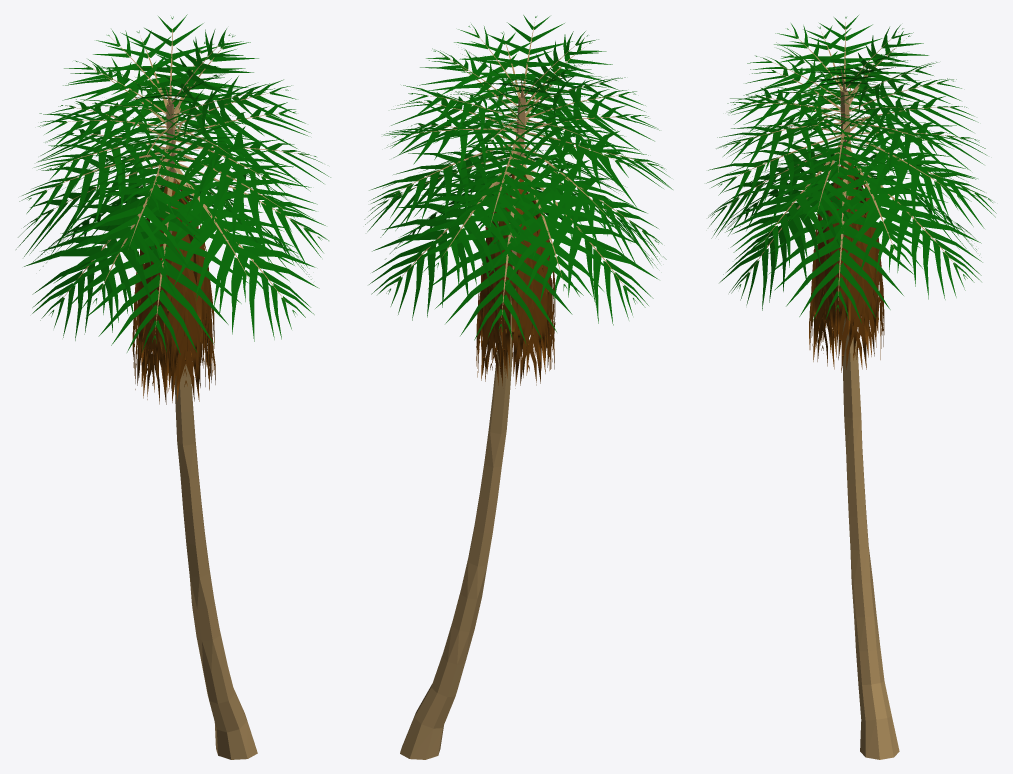
Rendered from Palm4.FBX.
3 renders of one model, left to right at view 1: azimuth 30°, elevation 25°; view 2: azimuth 150°, elevation 25°; view 3: azimuth 270°, elevation 25°, orthographic. The views are drawn at different scales.
Parts seen in each view (by area): view 1: Palm4_2, Palm4_1, Palm4_3; view 2: Palm4_2, Palm4_1, Palm4_3; view 3: Palm4_2, Palm4_1, Palm4_3.
Boxes of the visible parts, left/top/right/bottom form: Palm4_2: left=16, top=14, right=330, bottom=354; Palm4_1: left=166, top=104, right=257, bottom=759; Palm4_3: left=132, top=179, right=215, bottom=404; Palm4_2: left=364, top=15, right=672, bottom=343; Palm4_1: left=400, top=97, right=525, bottom=759; Palm4_3: left=476, top=174, right=555, bottom=388; Palm4_2: left=706, top=15, right=996, bottom=322; Palm4_1: left=840, top=90, right=899, bottom=759; Palm4_3: left=809, top=162, right=884, bottom=372.
Size of the model in its own units: 141 by 371 by 146.
